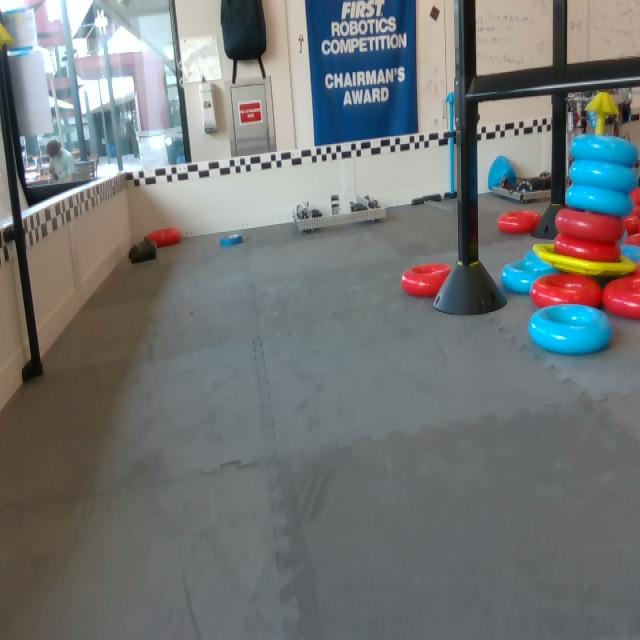Blue-Ring: (531, 305, 611, 354), (568, 158, 639, 192), (566, 183, 635, 216), (570, 134, 637, 167), (500, 260, 559, 294), (524, 247, 550, 269), (621, 244, 639, 263), (220, 234, 244, 247)
Mobile-Goal: (533, 93, 636, 278)
Red-Ring: (530, 274, 601, 309), (556, 209, 625, 241), (554, 233, 621, 261), (401, 262, 451, 297), (603, 277, 639, 319), (496, 210, 541, 234), (148, 228, 181, 245), (624, 215, 639, 234), (632, 188, 639, 206)
Yellow-Stake-Head: (584, 92, 621, 116), (0, 22, 14, 44)
zblue-Stake-Head: (445, 93, 454, 102)
